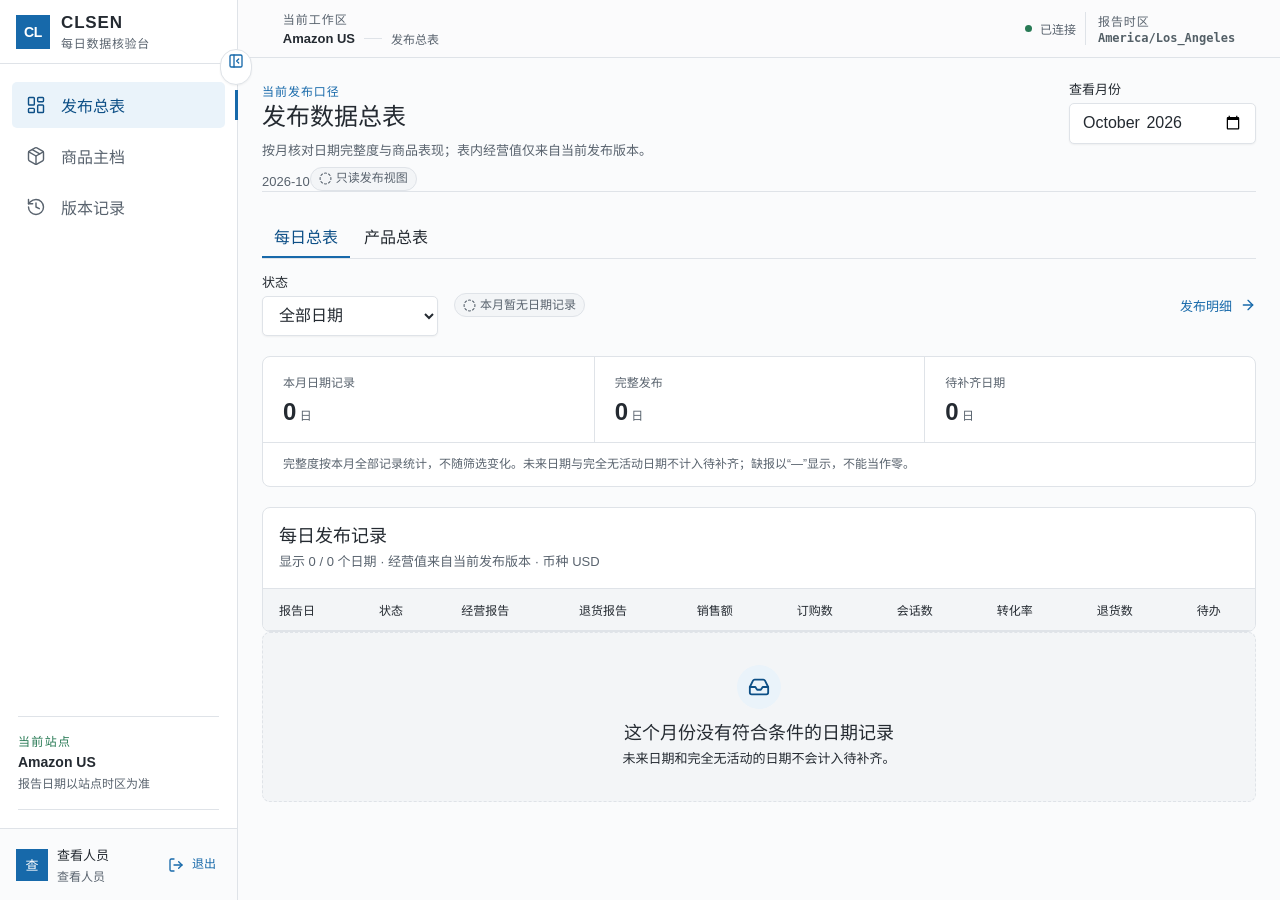
App › 成功退出时只清理当前身份的审核恢复数据
Expected: the heading "发布数据总表" is shown, [262,103,406,130]
Click the button "退出": (192, 864) [163,846,221,882]
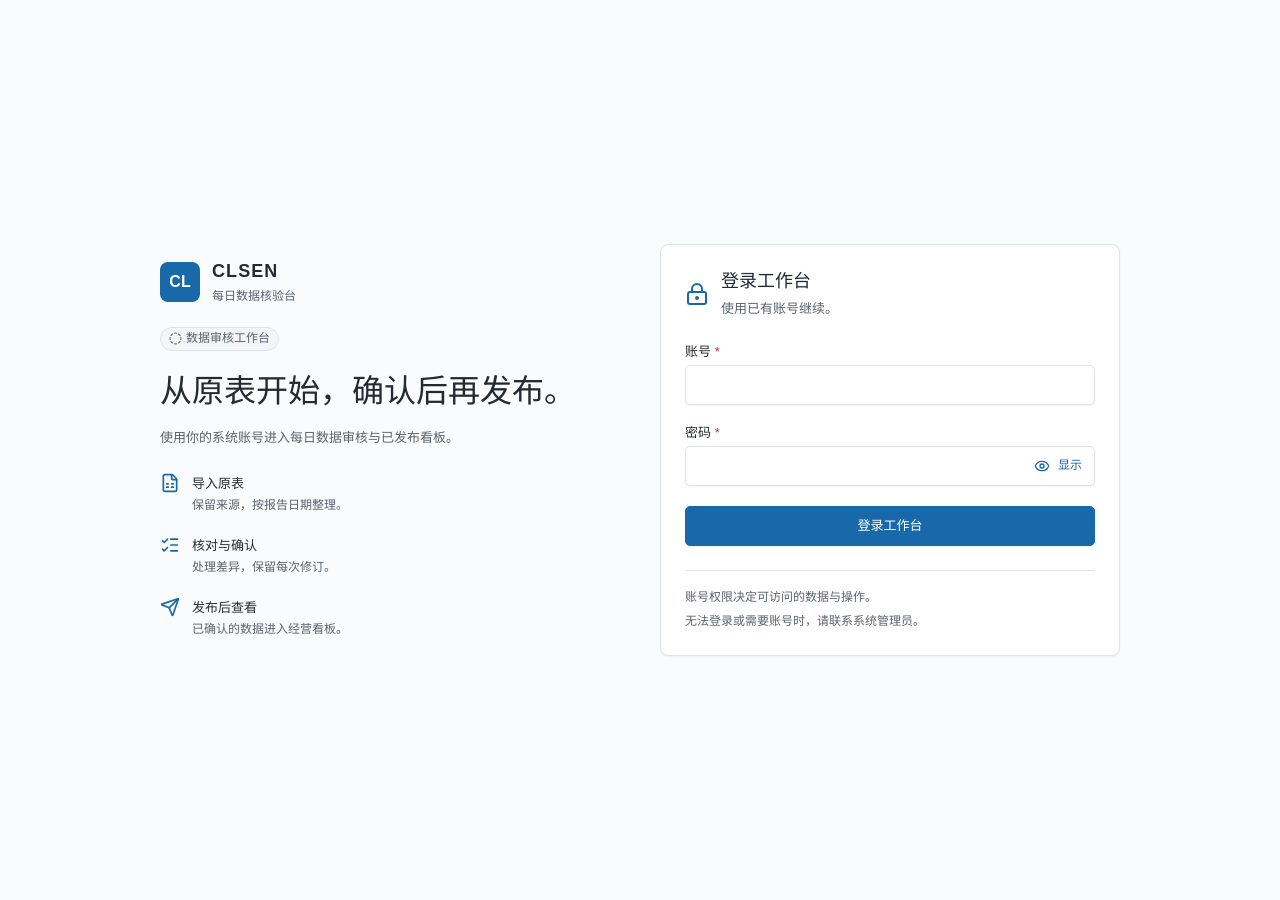
Expected: the heading "从原表开始，确认后再发布。" is shown, [160,367,576,415]
